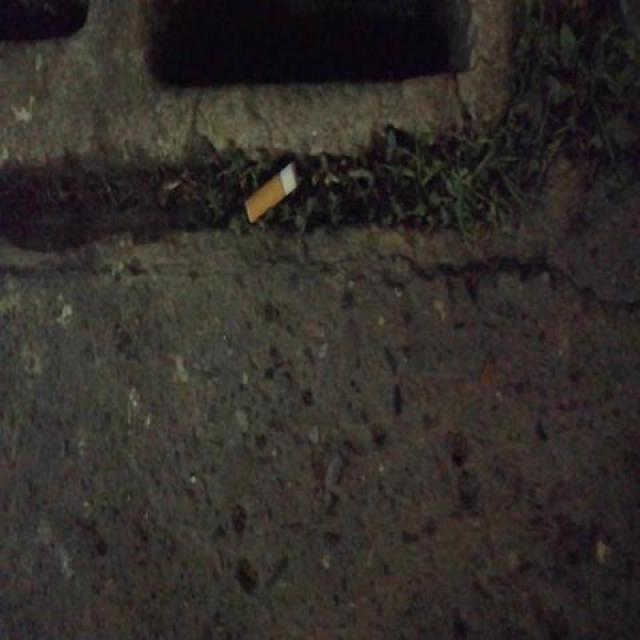non-organic waste: (239, 157, 301, 232)
